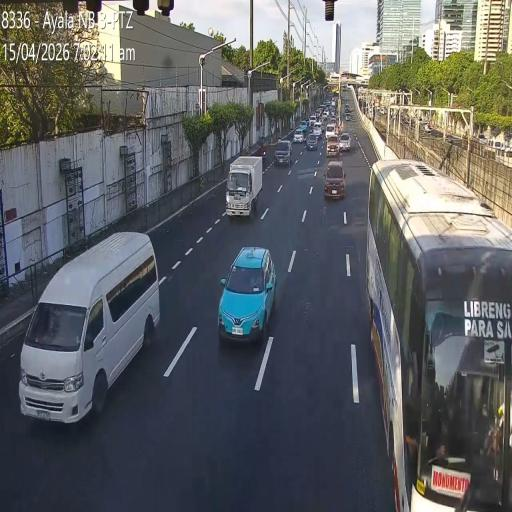Car: (22, 230, 158, 421), (217, 244, 276, 342), (323, 159, 345, 199), (274, 140, 292, 166), (325, 134, 340, 158), (338, 132, 351, 152), (306, 133, 319, 150), (312, 125, 322, 140)
Not Accident: (326, 130, 353, 160)
